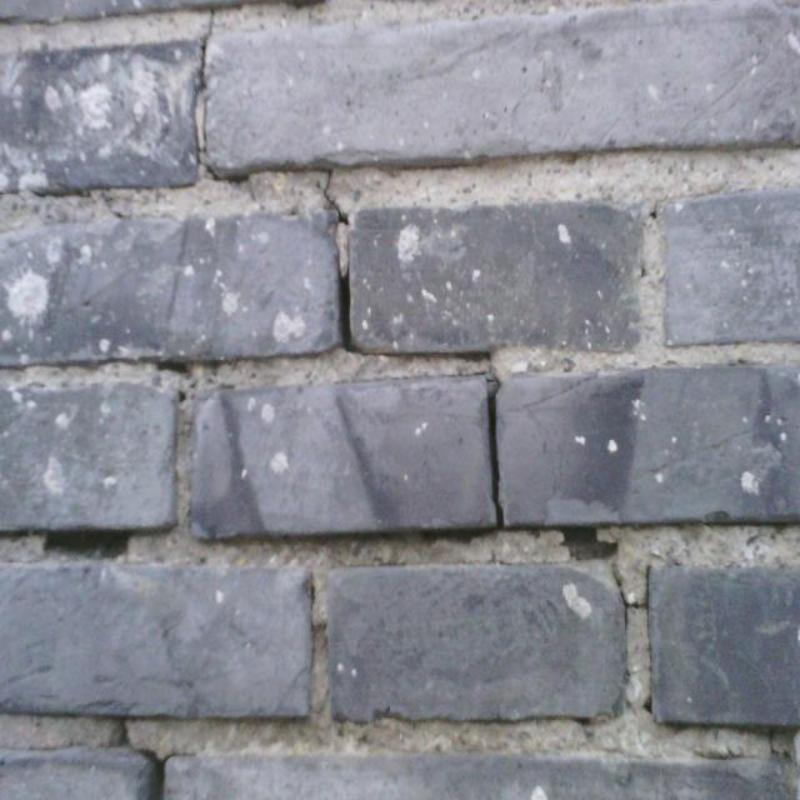pothole: (422, 375, 615, 558), (336, 238, 491, 361), (192, 9, 248, 182), (114, 719, 196, 799), (613, 564, 651, 631), (44, 532, 129, 556), (323, 170, 351, 227), (769, 728, 791, 759), (155, 360, 189, 372), (574, 716, 591, 726), (645, 698, 652, 711)
